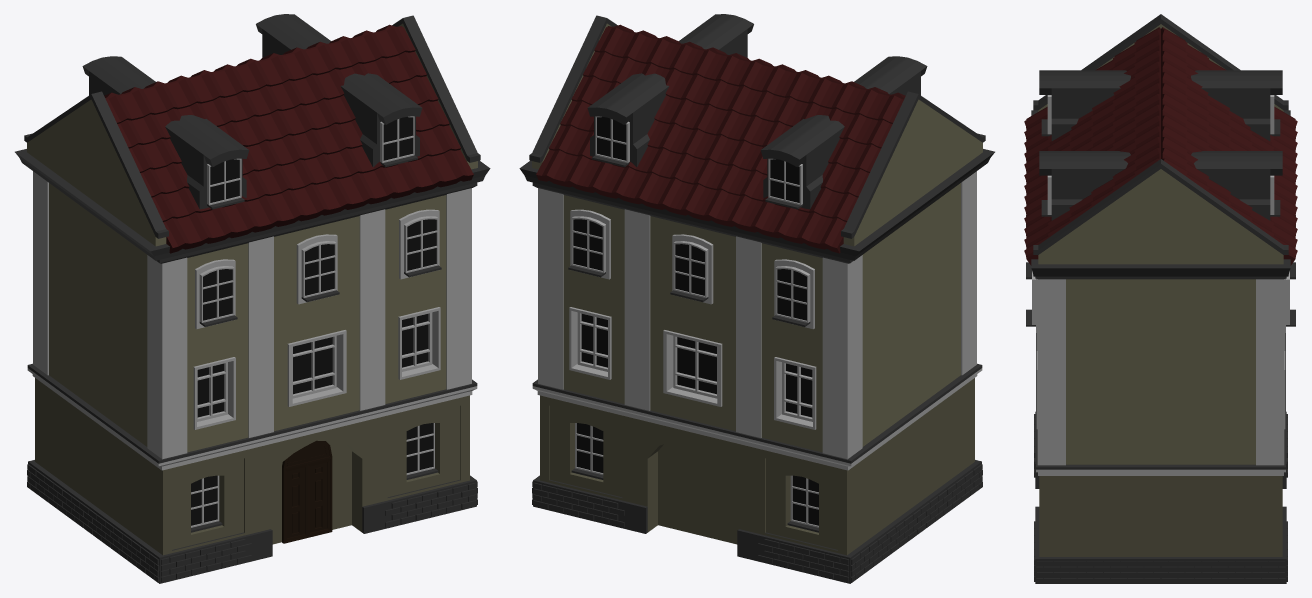
The model's file is Building1_Small.fbx.
3 views of the same model, side by side, from view 1: azimuth 30°, elevation 25°; view 2: azimuth 150°, elevation 25°; view 3: azimuth 270°, elevation 25° (orthographic). The views are drawn at different scales.
Visible parts, largest first — view 1: Building1_Small; view 2: Building1_Small; view 3: Building1_Small.
Boxes of the visible parts, x1,y1,x2,y2 form: Building1_Small: (15,14,490,583); Building1_Small: (519,14,994,583); Building1_Small: (1024,14,1297,583).
Bounding box in the file's own units: 3.75 × 4.66 × 2.74.
